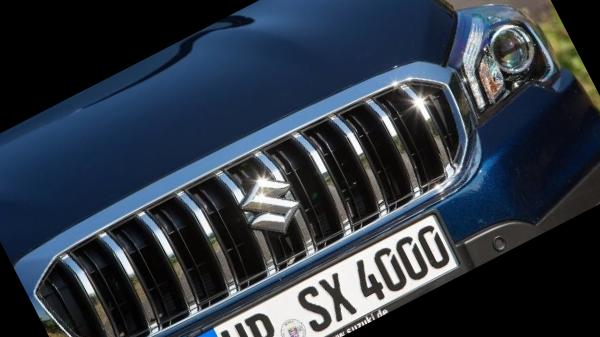plate: (176, 195, 477, 337)
